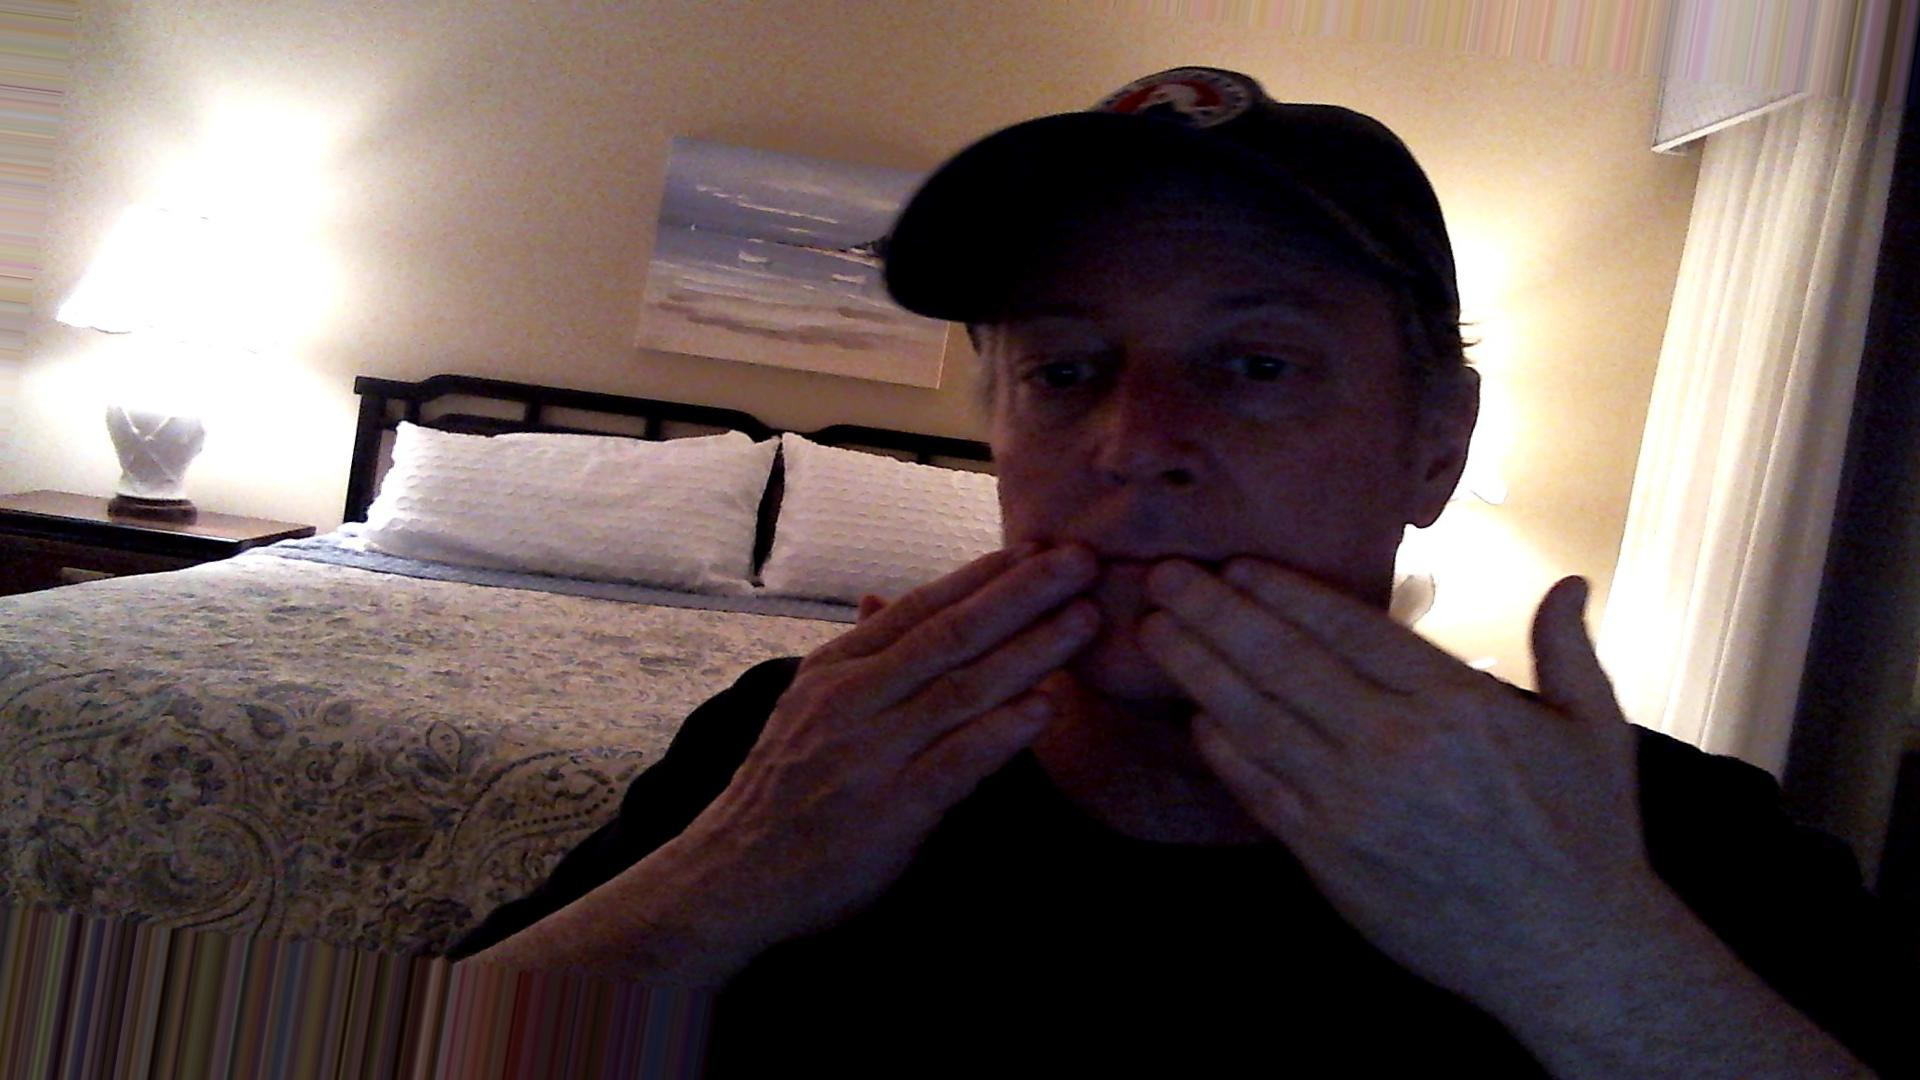Thank You: (742, 514, 1655, 922)
